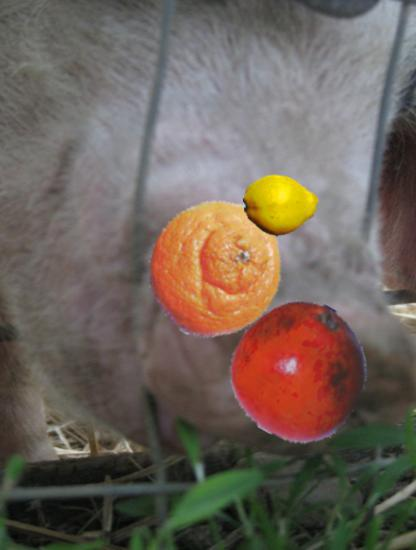Mandarine: (144, 198, 287, 341)
Pomegranate: (230, 301, 370, 441)
Quince: (244, 168, 319, 243)
